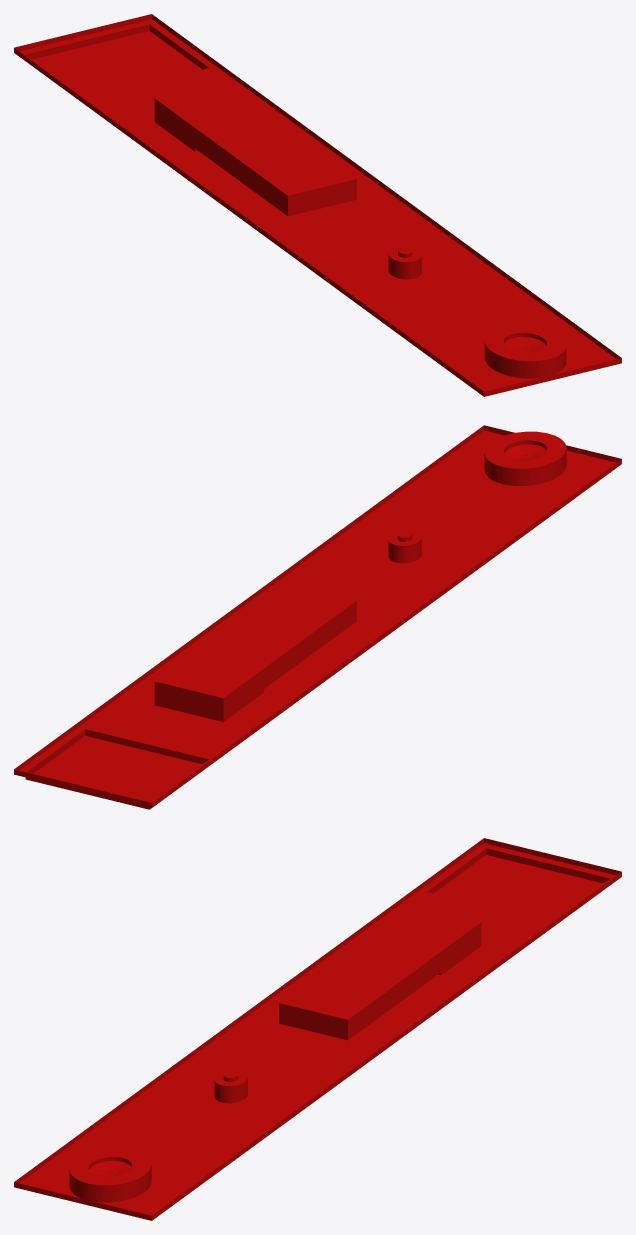
The model's file is original-23.obj.
3 views of the same model, one above another, from view 1: azimuth 30°, elevation 25°; view 2: azimuth 150°, elevation 25°; view 3: azimuth 330°, elevation 25° (orthographic).
Parts seen in each view (by area): view 1: mesh12/mesh12-geometry/material_1/component_6#mesh12-geometry; view 2: mesh12/mesh12-geometry/material_1/component_6#mesh12-geometry; view 3: mesh12/mesh12-geometry/material_1/component_6#mesh12-geometry.
Boxes of the visible parts, <box> form: mesh12/mesh12-geometry/material_1/component_6#mesh12-geometry: <box>14,14,621,396</box>; mesh12/mesh12-geometry/material_1/component_6#mesh12-geometry: <box>14,425,621,809</box>; mesh12/mesh12-geometry/material_1/component_6#mesh12-geometry: <box>14,838,621,1220</box>.
Size of the model in its own units: 0.3199 by 0.0677 by 1.89.
